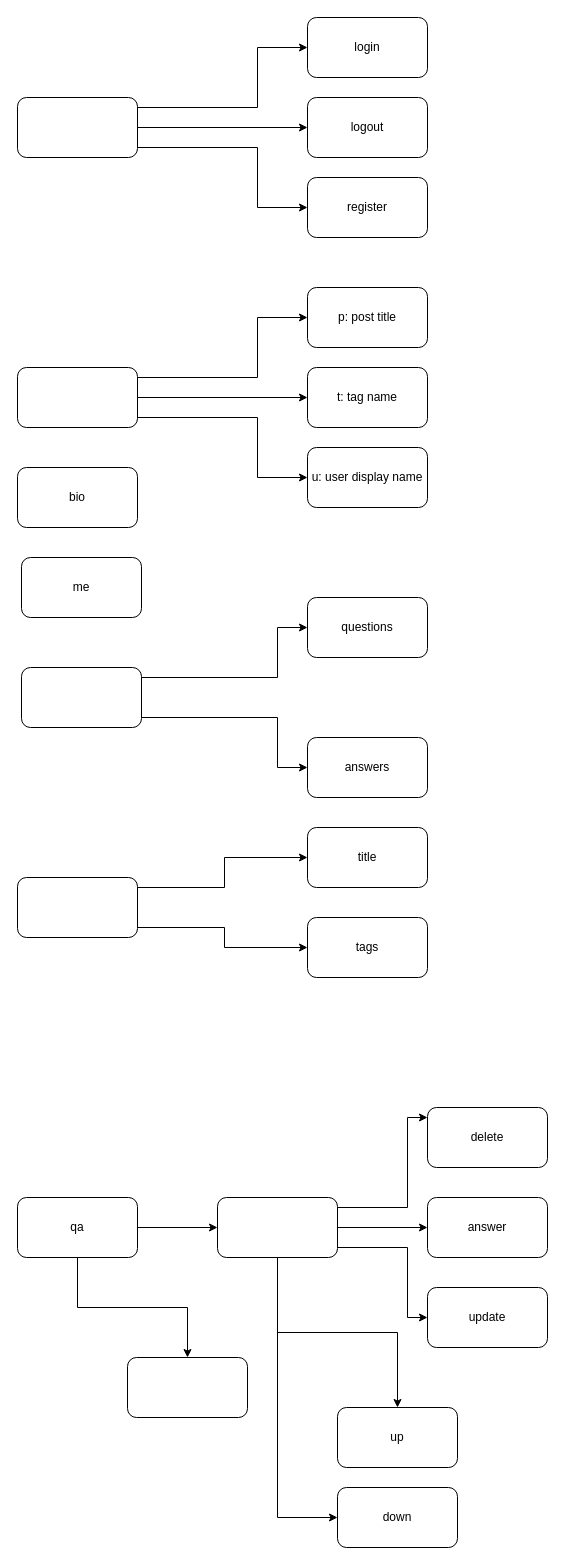
The diagram is 565 pixels wide and 1565 high, and some of its shapes have lost their labels. Here are the shapes that lost their labels. From the top down, the box of each, then its label:
(16, 96, 138, 158): auth
(16, 366, 138, 428): auto
(20, 666, 142, 728): user/{id}
(16, 876, 138, 938): search
(216, 1196, 338, 1258): {id}
(126, 1356, 248, 1418): question
